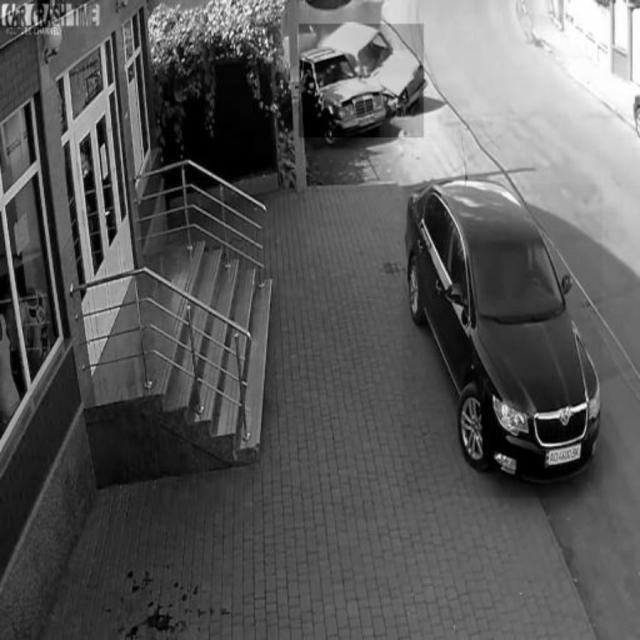accident: (299, 24, 423, 137)
vehicle: (404, 184, 604, 498)
